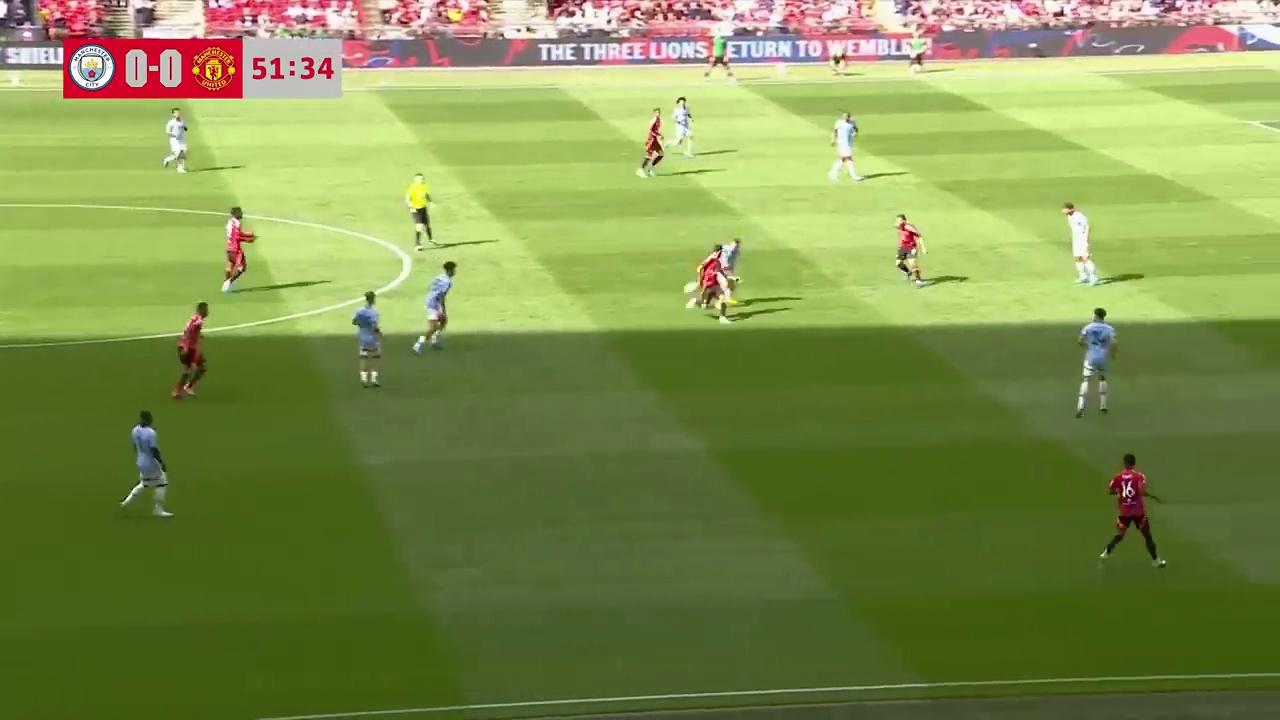player: (1096, 452, 1169, 570), (118, 410, 174, 516), (1073, 306, 1117, 417), (412, 261, 456, 352), (171, 301, 208, 400), (686, 245, 731, 320), (1060, 202, 1098, 286), (221, 206, 257, 293), (351, 290, 383, 387), (828, 111, 860, 182), (894, 214, 925, 287), (715, 237, 741, 316), (637, 111, 665, 178), (163, 108, 188, 172), (671, 96, 693, 157)
referee: (405, 172, 435, 250)
